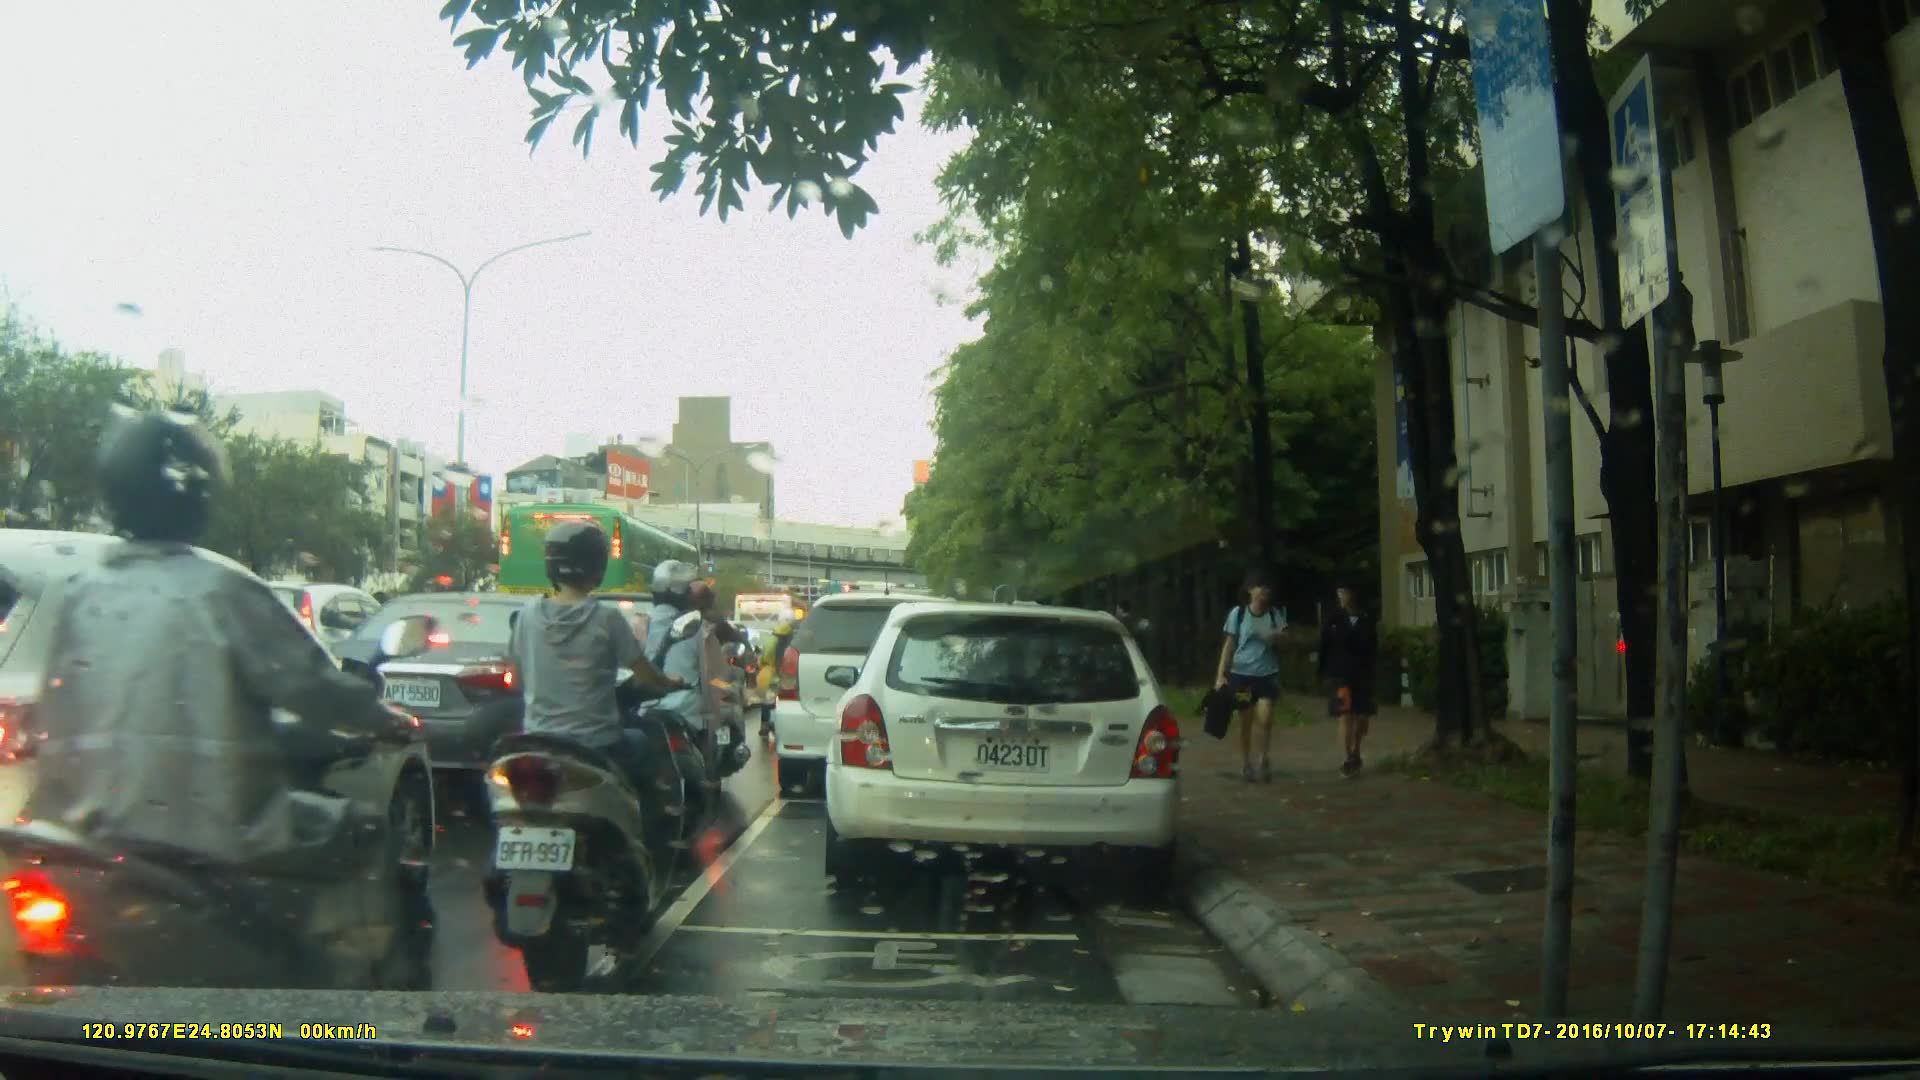pedestrian: (1202, 572, 1312, 789), (1313, 569, 1393, 782), (1120, 596, 1148, 687)
rider: (21, 410, 436, 1080), (487, 516, 679, 971), (627, 557, 719, 835), (677, 581, 757, 780), (762, 617, 810, 744)
vehicle: (1, 528, 448, 988), (831, 592, 1196, 897), (314, 590, 631, 803), (770, 591, 999, 803), (495, 500, 707, 636)
